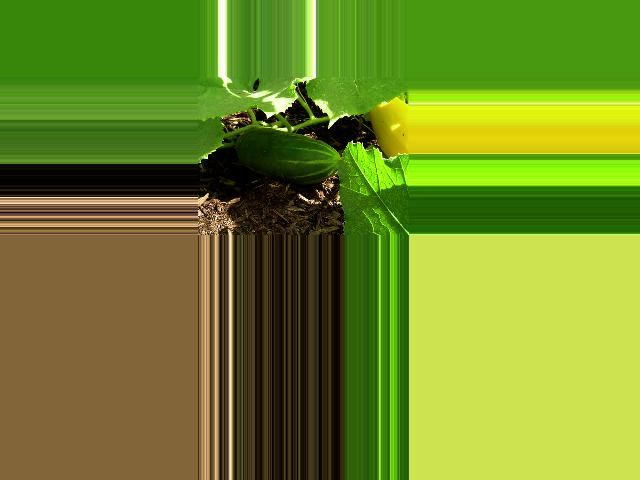cucumber: (234, 127, 340, 185)
